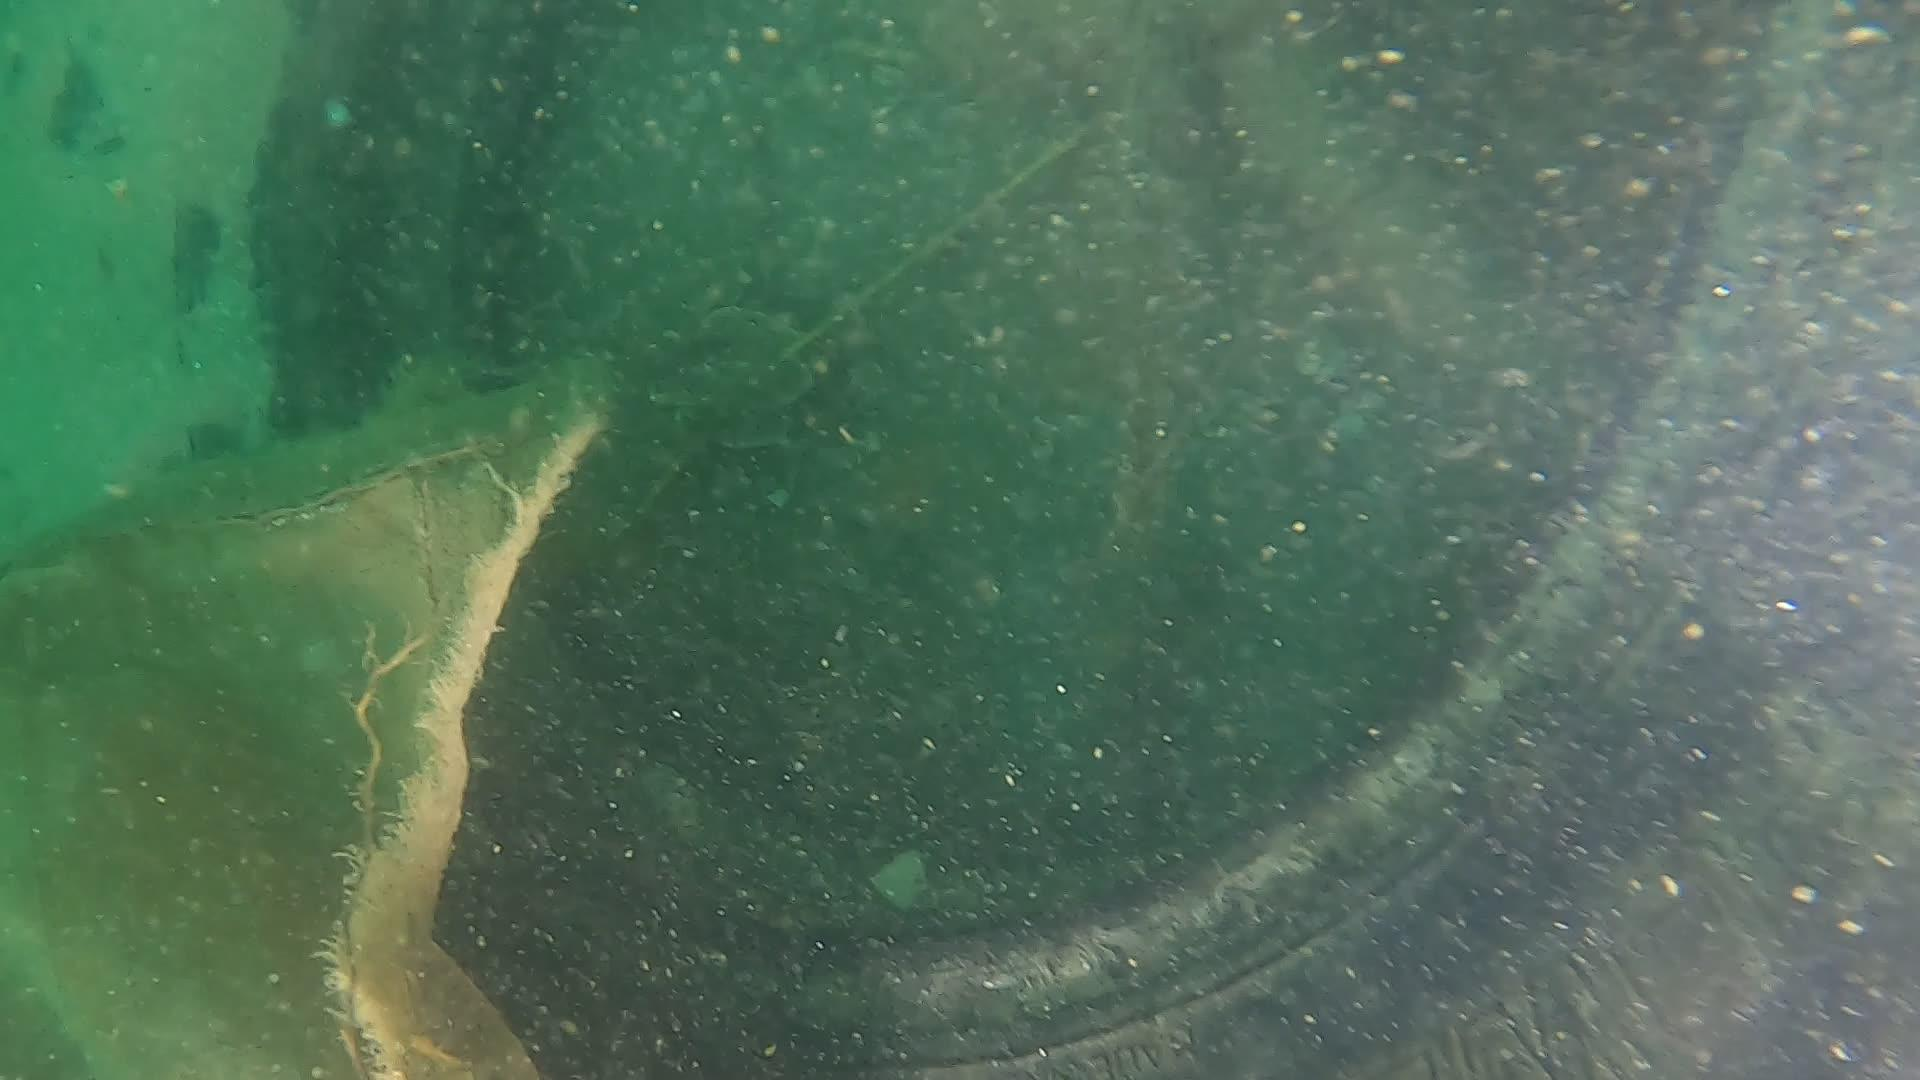tire: (243, 0, 1920, 1080)
